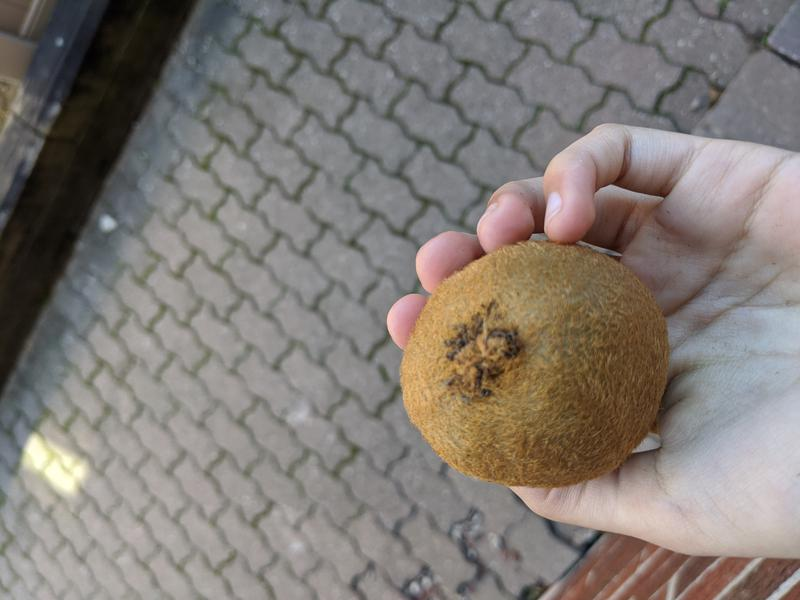kiwi: (400, 240, 671, 488)
